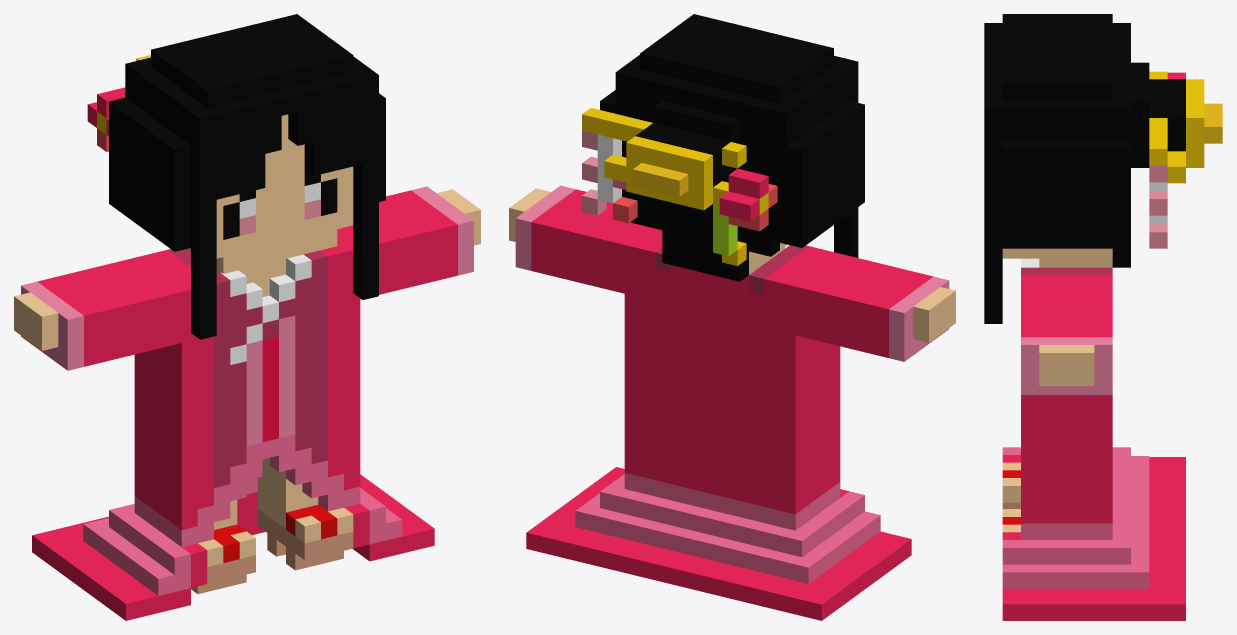
File: atsuhime.glb
The picture shows the model from 3 angles, left to right: view 1: azimuth 30°, elevation 25°; view 2: azimuth 150°, elevation 25°; view 3: azimuth 270°, elevation 25°; orthographic projection. The views are drawn at different scales.
Parts seen in each view (by area): view 1: Untitled; view 2: Untitled; view 3: Untitled.
Boxes of the visible parts, <box> form: Untitled: <box>14,14,480,620</box>; Untitled: <box>509,14,955,620</box>; Untitled: <box>984,14,1222,620</box>.
Size of the model in its own units: 0.54 by 0.6 by 0.26.
Materials: 1 (1 with a texture image).
